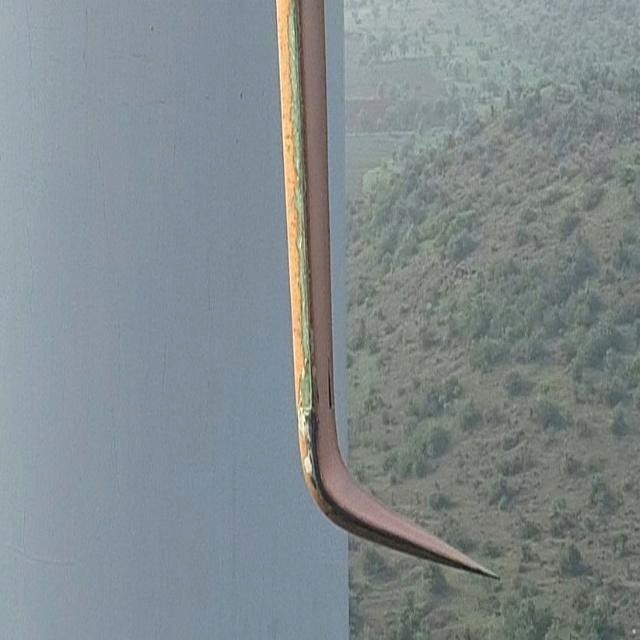EROSION: (289, 94, 321, 368), (291, 371, 349, 519)
